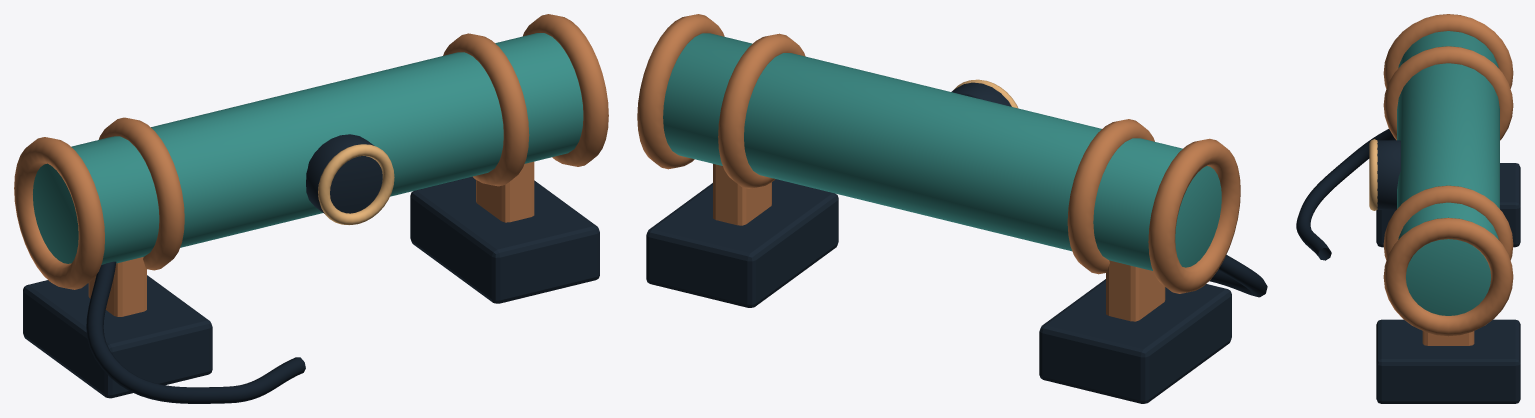
3 renders of one model, left to right at view 1: azimuth 30°, elevation 25°; view 2: azimuth 150°, elevation 25°; view 3: azimuth 270°, elevation 25°, orthographic. The views are drawn at different scales.
Visible parts, largest first — view 1: PR003_tube, PR003_foot.001, PR003_foot, PR003_clamp, PR003_cable, PR003_clamp.002, PR003_clamp.003, PR003_clamp.001, PR003_socket, PR003_socket_lip, PR003_stanchion.001, PR003_stanchion; view 2: PR003_tube, PR003_foot.001, PR003_foot, PR003_clamp, PR003_clamp.003, PR003_clamp.002, PR003_clamp.001, PR003_stanchion, PR003_stanchion.001, PR003_cable, PR003_socket; view 3: PR003_tube, PR003_foot.001, PR003_clamp.003, PR003_clamp.001, PR003_clamp, PR003_clamp.002, PR003_cable, PR003_foot, PR003_socket, PR003_socket_lip, PR003_stanchion.001.
Boxes of the visible parts, x1,y1,x2,y2 form: PR003_tube: (33, 33, 583, 264); PR003_foot.001: (410, 176, 599, 303); PR003_foot: (23, 275, 212, 398); PR003_clamp: (14, 137, 104, 289); PR003_cable: (86, 261, 305, 403); PR003_clamp.002: (443, 33, 529, 186); PR003_clamp.003: (523, 14, 608, 166); PR003_clamp.001: (98, 117, 184, 270); PR003_socket: (306, 134, 382, 213); PR003_socket_lip: (318, 144, 394, 225); PR003_stanchion.001: (476, 161, 534, 222); PR003_stanchion: (88, 257, 146, 316); PR003_tube: (663, 33, 1221, 270); PR003_foot.001: (646, 179, 838, 307); PR003_foot: (1039, 279, 1231, 403); PR003_clamp: (1148, 138, 1240, 293); PR003_clamp.003: (637, 14, 724, 169); PR003_clamp.002: (718, 33, 805, 188); PR003_clamp.001: (1067, 119, 1154, 274); PR003_stanchion: (1106, 260, 1165, 321); PR003_stanchion.001: (713, 164, 771, 225); PR003_cable: (1209, 255, 1267, 297); PR003_socket: (951, 82, 1011, 106); PR003_tube: (1397, 31, 1499, 315); PR003_foot.001: (1376, 319, 1520, 403); PR003_clamp.003: (1383, 217, 1513, 336); PR003_clamp.001: (1383, 46, 1513, 140); PR003_clamp: (1383, 14, 1513, 88); PR003_clamp.002: (1383, 185, 1513, 260); PR003_cable: (1296, 129, 1395, 260); PR003_foot: (1376, 163, 1520, 247); PR003_socket: (1377, 140, 1400, 209); PR003_socket_lip: (1369, 139, 1377, 210); PR003_stanchion.001: (1422, 331, 1474, 345).
Bounding box in the file's own units: 2.47 × 1.01 × 1.09.
